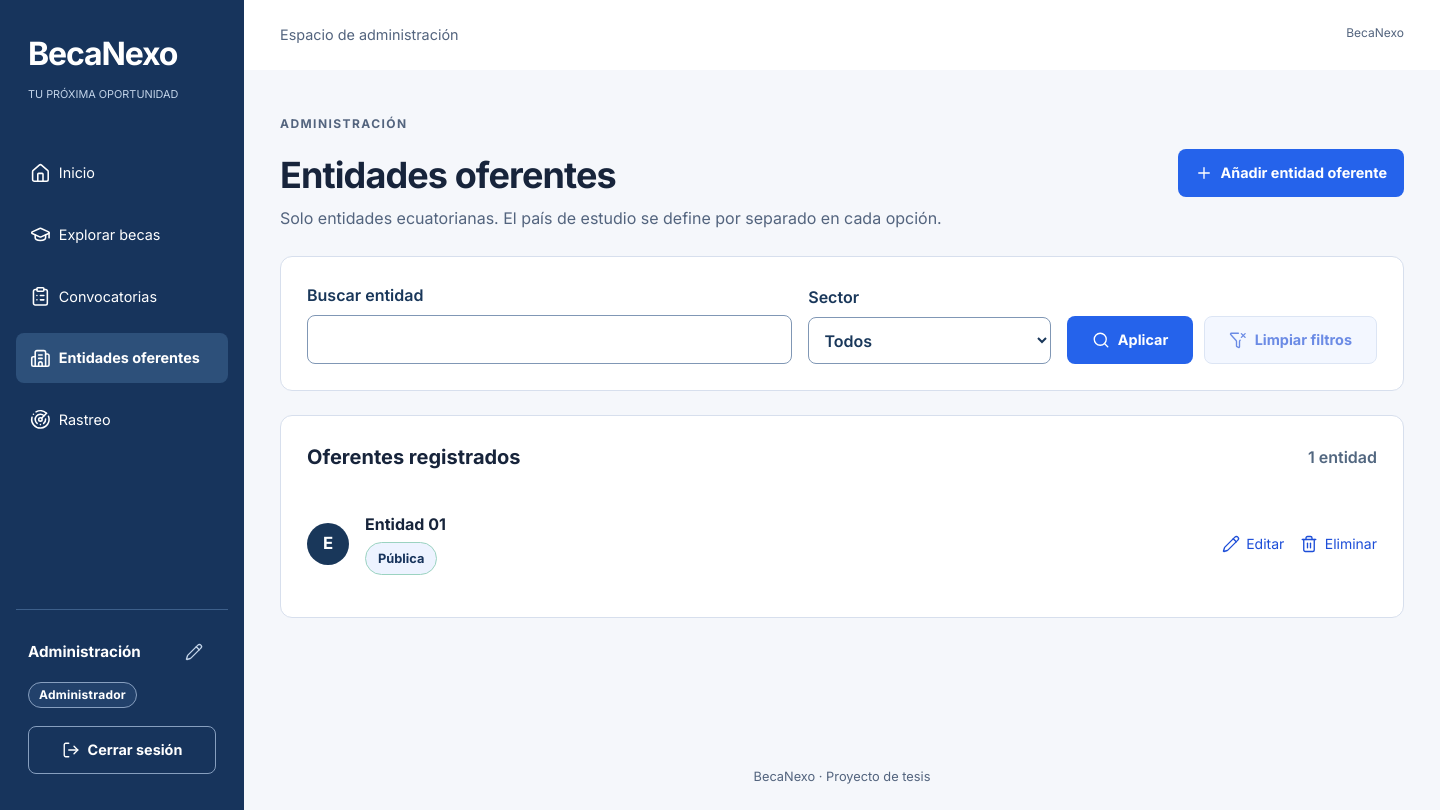
guardar cierra el diálogo, refresca la lista y avisa «Entidad guardada.»
The image size is (1440, 810).
Expected: the text "Entidad 01" is shown, [365,514,446,534]
Click the button "Añadir entidad oferente": click(1291, 173) [1178,149,1404,197]
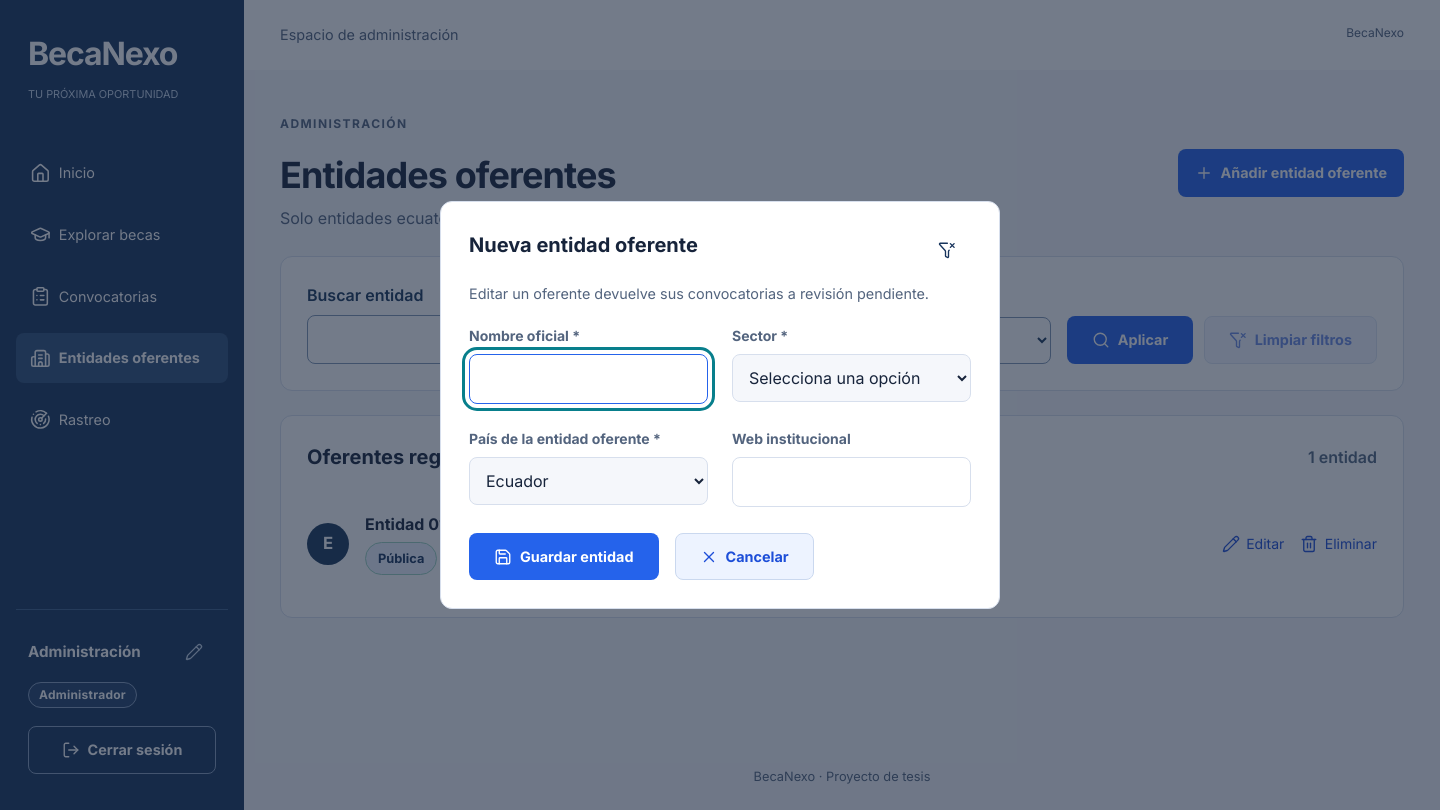
In the field labelled "Nombre oficial *": (588, 379) [469,354,708,404], type "Entidad Nueva"
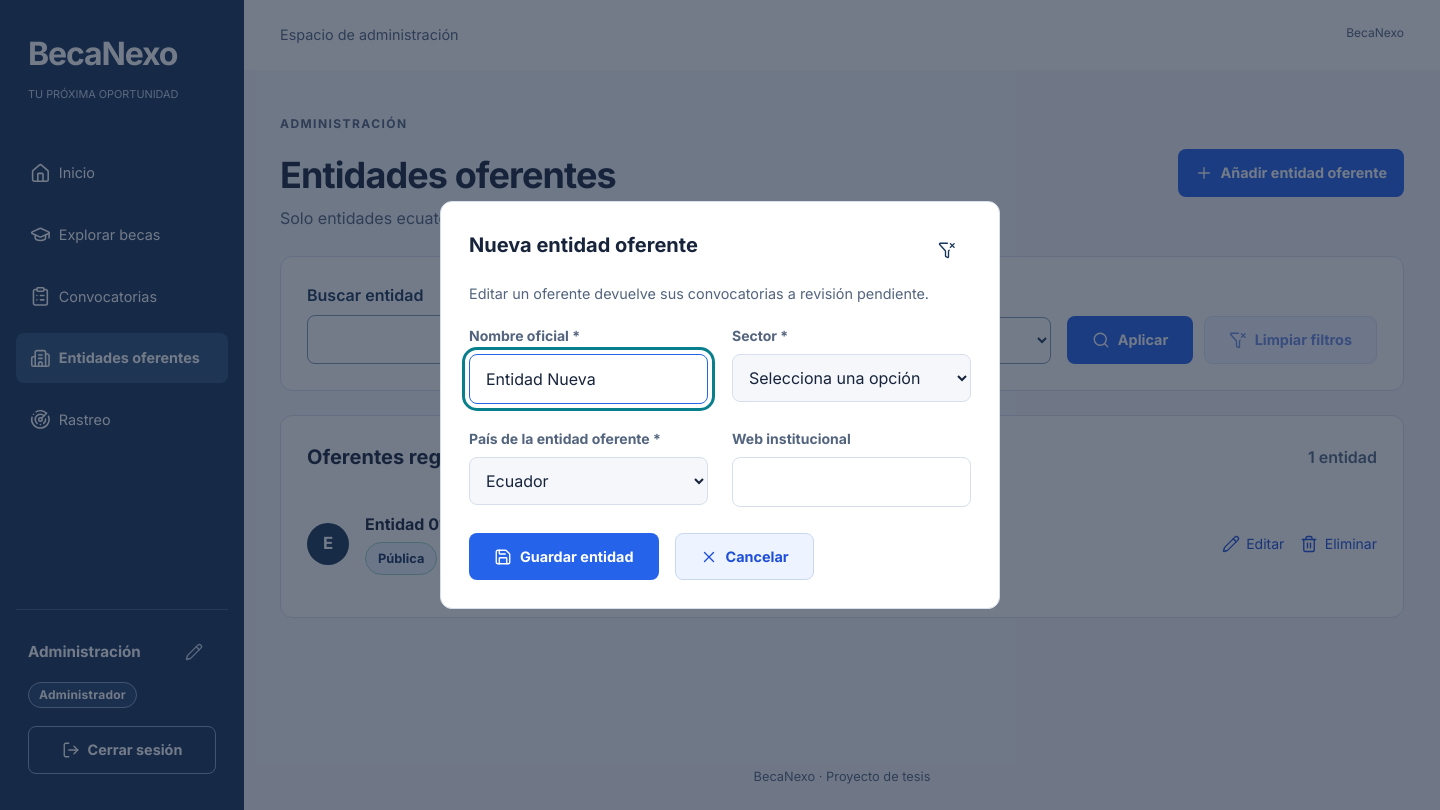
Select "publico" in the dropdown labelled "Sector *": (852, 378) [732,354,971,402]
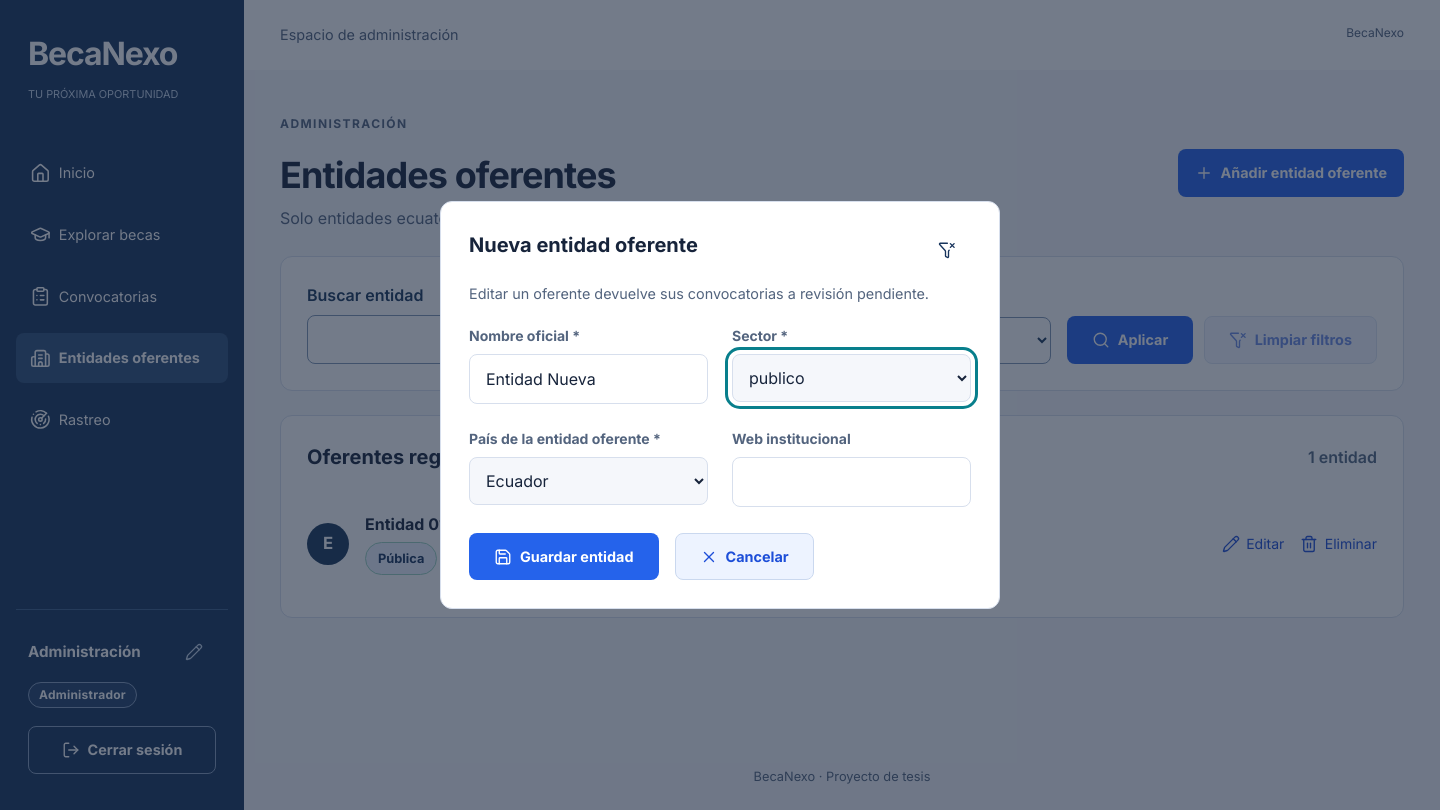
Click the button "Guardar entidad": click(564, 556) [469,533,658,580]
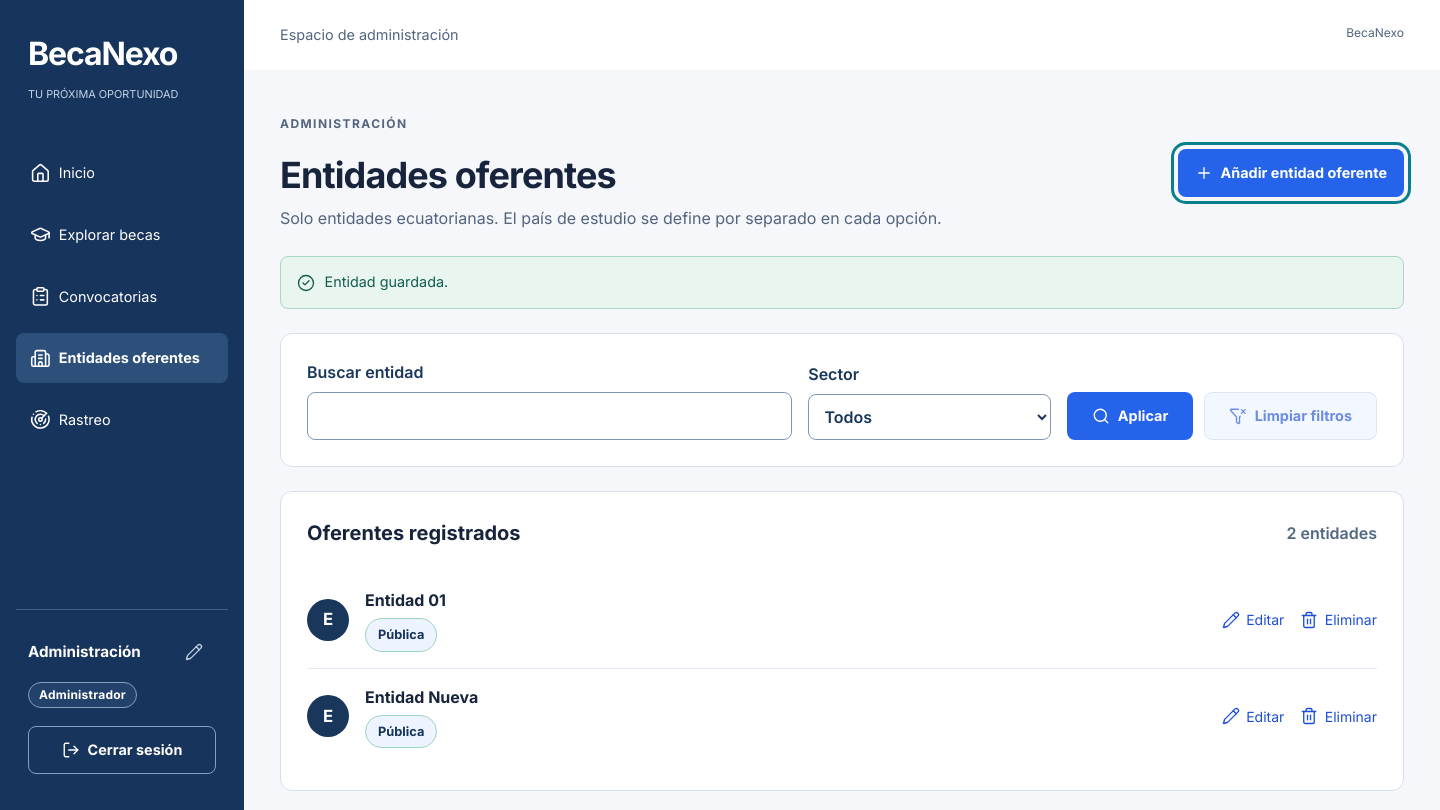
Result: the dialog is gone
Result: the text "Entidad guardada." is shown at [325,271,448,294]
Result: the text "Entidad Nueva" is shown at [365,687,478,707]
